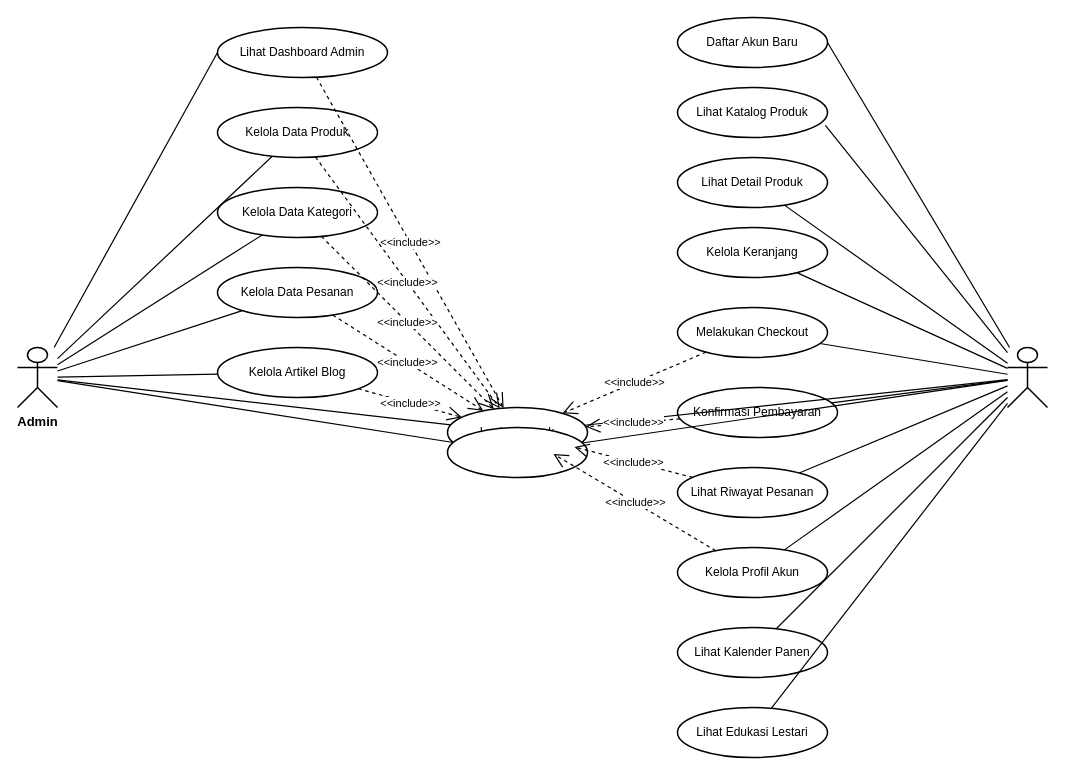
This 1078x776 diagram has some shape labels left out. Here are the shapes that lost their labels. From the top down, the box of each, then its label:
(1006, 346, 1048, 408): Pelanggan
(446, 426, 588, 478): Logout / Keluar
